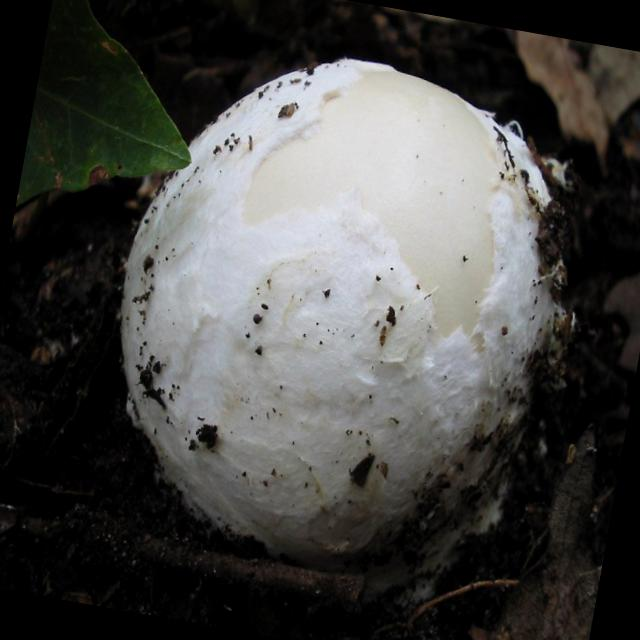Agaricus bisporus: (82, 31, 613, 606)
